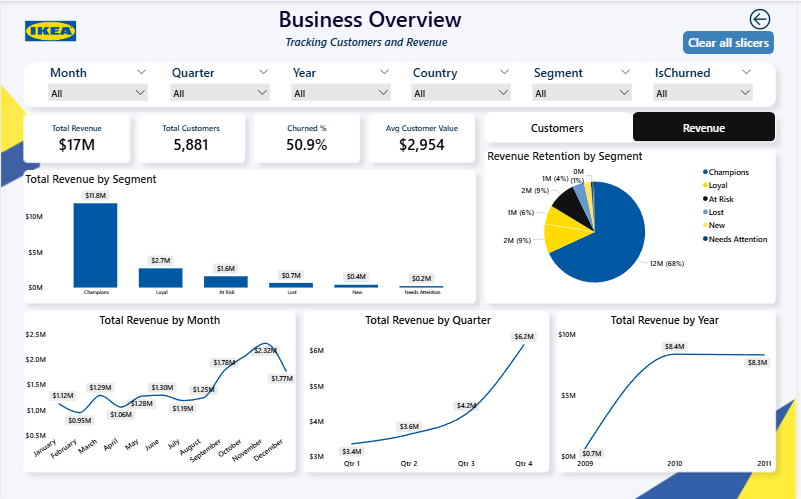

Layout of this report page (visuals, bound fields, positions):
{"tool":"powerbi","page":{"name":"Overview","canvas":[1750,1100],"ordinal":1},"visuals":[{"type":"cardVisual","fields":{"Data":["Meaure_Table.Total Revenue"]},"box":[48.4,244.2,237.6,112.2],"z":0},{"type":"columnChart","fields":{"Category":["Sheet1.Segment"],"Y":["Meaure_Table.Total Customers"]},"box":[48.4,374,992.2,288.2],"z":0,"group":"g1"},{"type":"cardVisual","fields":{"Data":["Meaure_Table.Total Customers"]},"box":[299.2,244.2,237.6,112.2],"z":1000},{"type":"columnChart","title":"Customer Retention by Segment","fields":{"Category":["Sheet1.Segment"],"Y":["Meaure_Table.Total Customers"],"Series":["Sheet1.IsChurned"]},"box":[1064.8,323.4,635.8,338.8],"z":1000,"group":"g1"},{"type":"cardVisual","fields":{"Data":["Meaure_Table.Churned %"]},"box":[556.6,244.2,233.2,112.2],"z":2000},{"type":"lineChart","title":"Total Customers by Month","fields":{"Category":["Sheet1.InvoiceDate.Variation.Date Hierarchy.Month"],"Y":["Meaure_Table.Total Customers"]},"box":[48.4,684.2,602.8,352],"z":2000,"group":"g1"},{"type":"cardVisual","fields":{"Data":["Meaure_Table.Avg Customer Value"]},"box":[811.8,244.2,228.8,112.2],"z":3000},{"type":"lineChart","title":"Total Customers by Quarter","fields":{"Category":["Sheet1.InvoiceDate.Variation.Date Hierarchy.Quarter"],"Y":["Meaure_Table.Total Customers"]},"box":[673.2,684.2,532.4,352],"z":3000,"group":"g1"},{"type":"slicer","fields":{"Values":["Sheet1.InvoiceDate.Variation.Date Hierarchy.Month"]},"box":[94.6,134.2,237.6,92.4],"z":4000},{"type":"lineChart","title":"Total Customers by Year","fields":{"Category":["Sheet1.InvoiceDate.Variation.Date Hierarchy.Year"],"Y":["Meaure_Table.Total Customers"]},"box":[1221,684.2,479.6,352],"z":4000,"group":"g1"},{"type":"slicer","fields":{"Values":["Sheet1.InvoiceDate.Variation.Date Hierarchy.Quarter"]},"box":[362.6,134.2,237.6,92.4],"z":5000},{"type":"slicer","fields":{"Values":["Sheet1.InvoiceDate.Variation.Date Hierarchy.Year"]},"box":[628.3,134.2,237.6,92.4],"z":6000},{"type":"slicer","fields":{"Values":["Sheet1.Country"]},"box":[894.1,134.2,237.6,92.4],"z":7000},{"type":"slicer","fields":{"Values":["Sheet1.Segment"]},"box":[1159.8,134.2,237.6,92.4],"z":8000},{"type":"slicer","fields":{"Values":["Sheet1.IsChurned"]},"box":[1425.6,134.2,237.6,92.4],"z":9000},{"type":"group","id":"g1","title":"Customers","box":[48.4,323.4,1652.2,712.8],"z":10000},{"type":"bookmarkNavigator","box":[1065.9,243.2,636.4,65.9],"z":12000},{"type":"image","box":[28.6,17.6,160.6,96.8],"z":13000},{"type":"textbox","box":[604.4,0,541.2,88],"z":14000},{"type":"textbox","box":[620.4,68.2,382.8,48.4],"z":15000},{"type":"actionButton","box":[1636.8,11,66,55],"z":16000},{"type":"actionButton","box":[1500.4,66,200.2,50.6],"z":17000}]}

Visuals, with their boxes in screenshot pixels (x1, y1, x2, y2), scaled from the page's 1750x1100 canvas onto the 801x499 screenshot:
cardVisual - Meaure_Table.Total Revenue: detection(22, 111, 131, 162)
columnChart - Sheet1.Segment x Meaure_Table.Total Customers: detection(22, 170, 476, 300)
cardVisual - Meaure_Table.Total Customers: detection(137, 111, 246, 162)
"Customer Retention by Segment" columnChart: detection(487, 147, 778, 300)
cardVisual - Meaure_Table.Churned %: detection(255, 111, 362, 162)
"Total Customers by Month" lineChart: detection(22, 310, 298, 470)
cardVisual - Meaure_Table.Avg Customer Value: detection(372, 111, 476, 162)
"Total Customers by Quarter" lineChart: detection(308, 310, 552, 470)
slicer - Sheet1.InvoiceDate.Variation.Date Hierarchy.Month: detection(43, 61, 152, 103)
"Total Customers by Year" lineChart: detection(559, 310, 778, 470)
slicer - Sheet1.InvoiceDate.Variation.Date Hierarchy.Quarter: detection(166, 61, 275, 103)
slicer - Sheet1.InvoiceDate.Variation.Date Hierarchy.Year: detection(288, 61, 396, 103)
slicer - Sheet1.Country: detection(409, 61, 518, 103)
slicer - Sheet1.Segment: detection(531, 61, 640, 103)
slicer - Sheet1.IsChurned: detection(653, 61, 761, 103)
"Customers" group: detection(22, 147, 778, 470)
bookmarkNavigator: detection(488, 110, 779, 140)
image: detection(13, 8, 87, 52)
textbox: detection(277, 0, 524, 40)
textbox: detection(284, 31, 459, 53)
actionButton: detection(749, 5, 779, 30)
actionButton: detection(687, 30, 778, 53)
